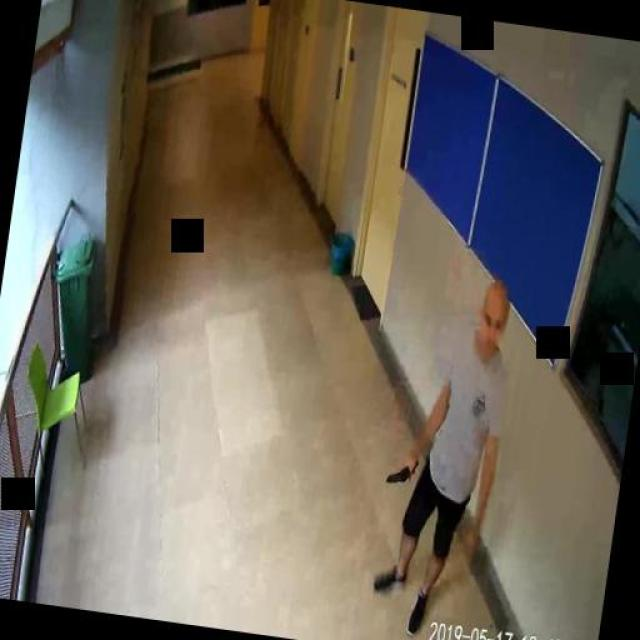gun: (385, 454, 419, 485)
